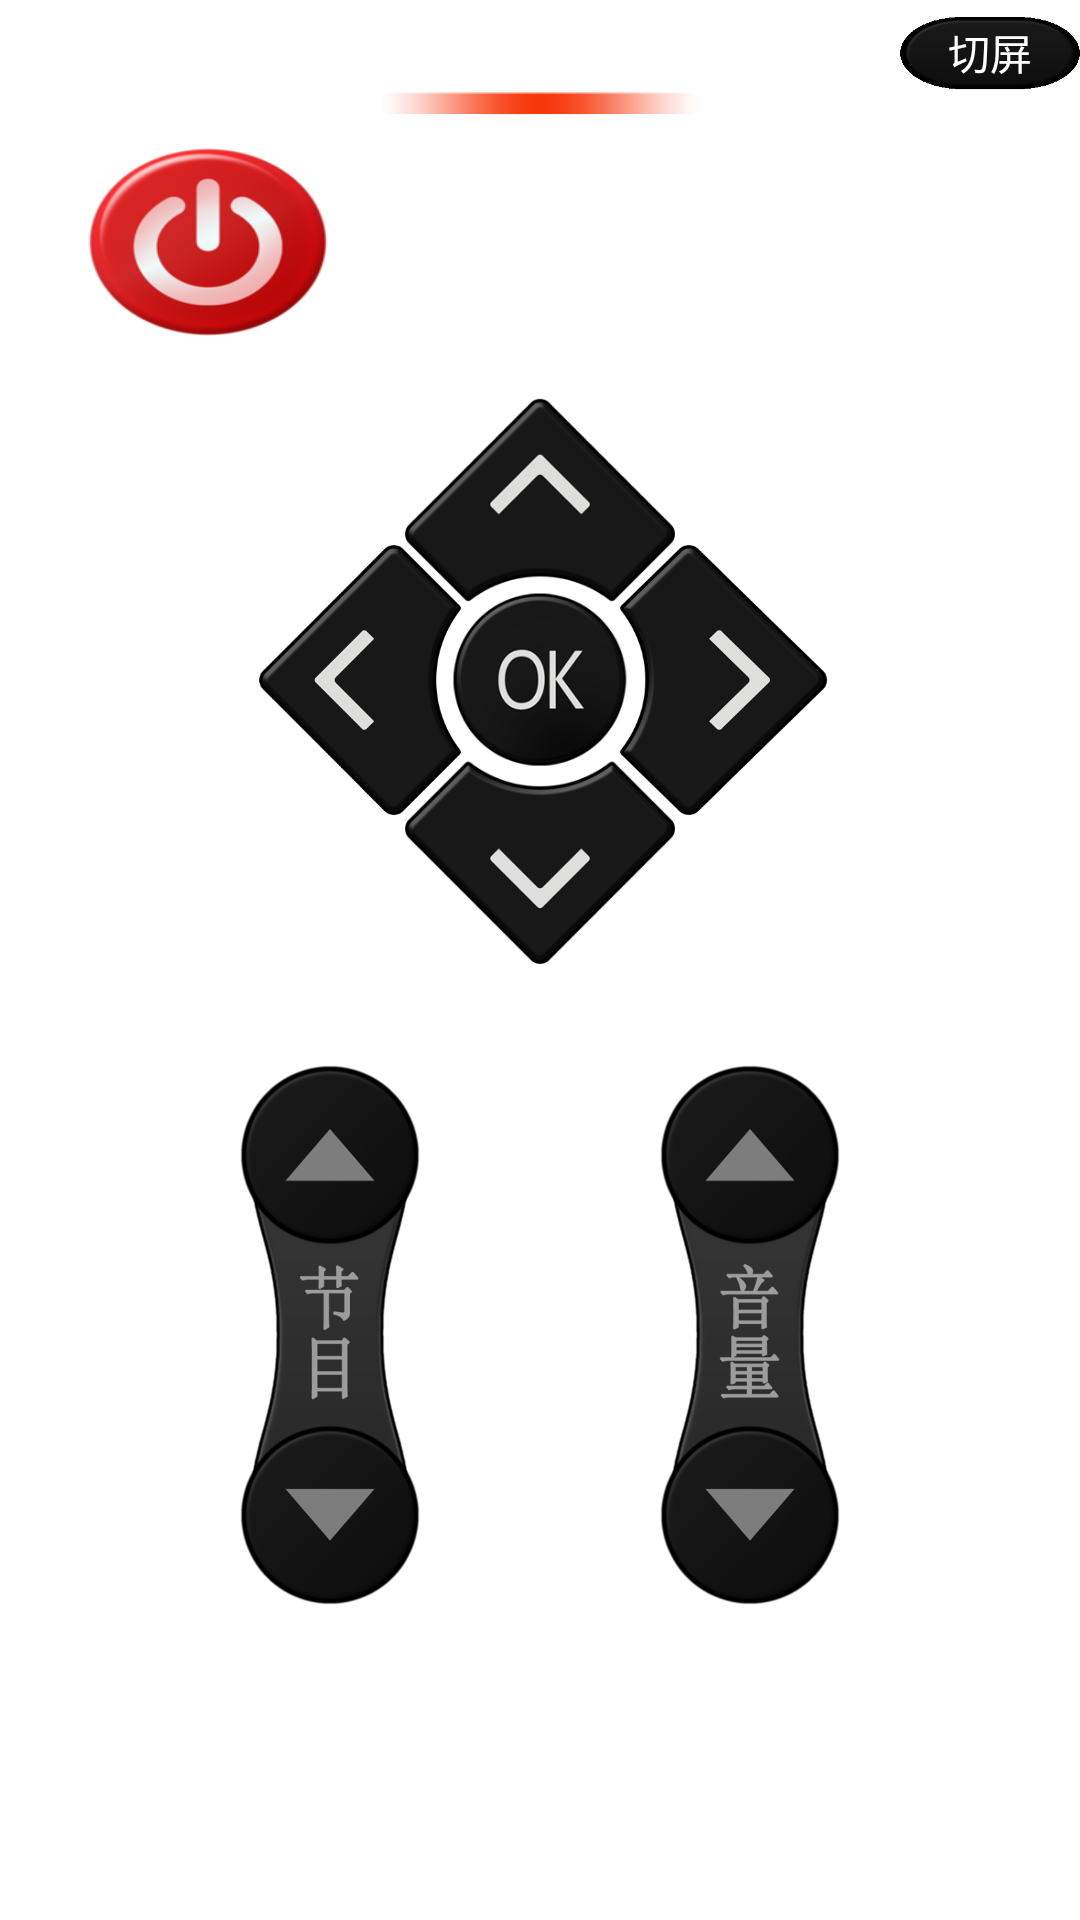

Point at icon controls on the screen. Image size 1080 × 1920, points as point (x, y).
down: point (540, 862), point (330, 1514), point (750, 1514)
left: point (360, 680)
right: point (723, 680)
